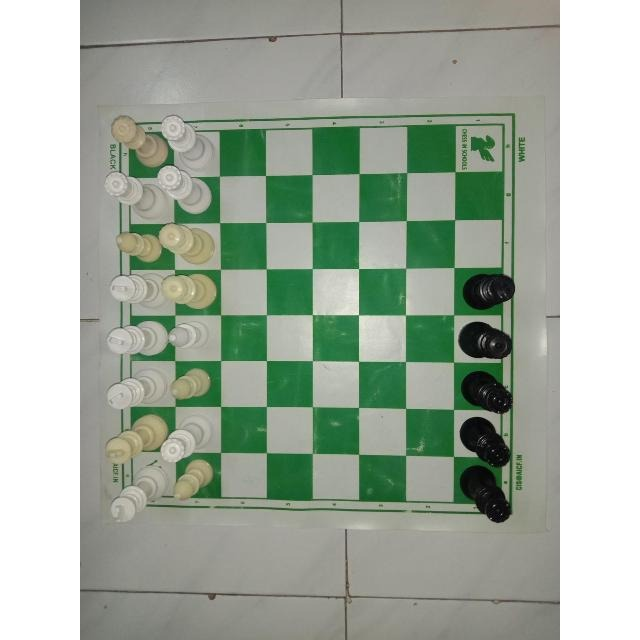black-king: (460, 270, 517, 313)
black-queen: (455, 462, 514, 526), (457, 417, 514, 469), (455, 370, 514, 414), (454, 320, 514, 362)
white-bishop: (156, 412, 214, 464), (108, 227, 166, 267), (169, 455, 216, 501), (164, 317, 212, 356), (169, 366, 213, 404)
white-king: (105, 461, 168, 524), (103, 413, 169, 463), (100, 315, 168, 359), (104, 366, 168, 410), (108, 267, 166, 310)
white-queen: (107, 114, 169, 172), (101, 170, 166, 222), (159, 112, 214, 172), (156, 162, 212, 216), (162, 271, 218, 315), (158, 224, 214, 266)
